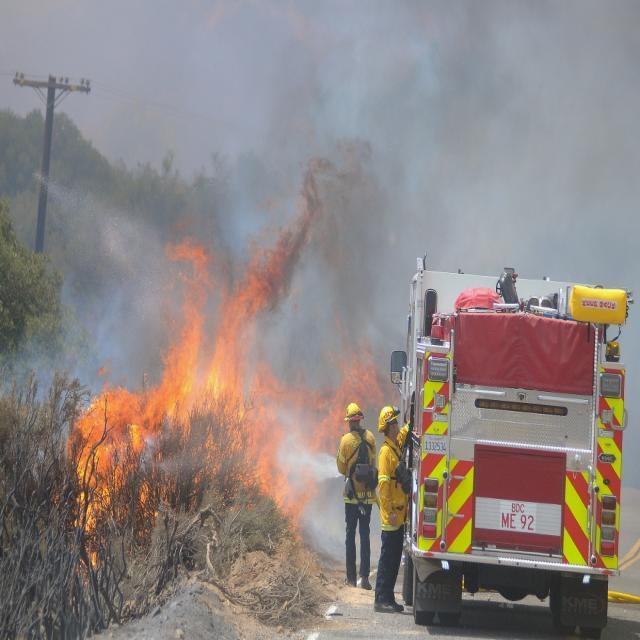Fire: (64, 240, 290, 541)
Smoke: (310, 36, 640, 264), (295, 2, 640, 182), (295, 206, 390, 397)
